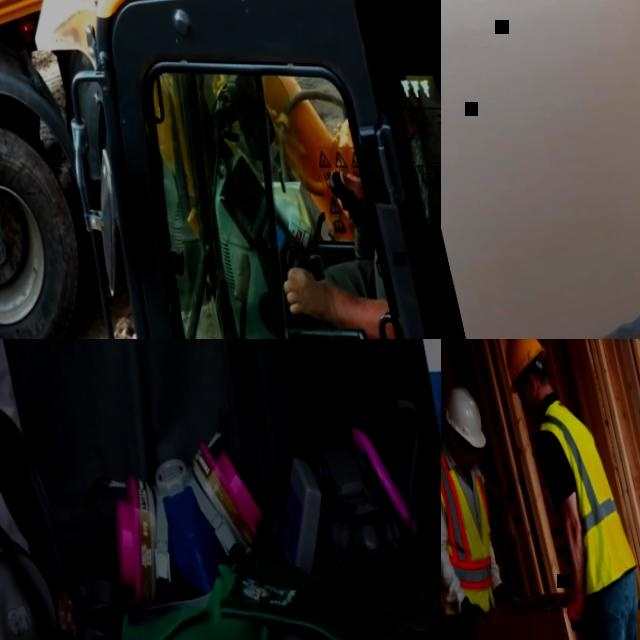Hardhat: (441, 383, 486, 453), (498, 339, 549, 389)
Mask: (94, 430, 279, 614), (255, 415, 426, 602), (0, 384, 94, 640)
NO-Mask: (523, 401, 540, 424), (458, 452, 471, 473)
NO-Safety Vest: (478, 198, 640, 339)
Person: (441, 0, 640, 339), (240, 75, 441, 339), (496, 339, 640, 640), (441, 378, 570, 640)
Safety Vest: (528, 392, 640, 597), (441, 441, 513, 634)
machinery: (11, 0, 441, 339), (0, 0, 390, 339)
